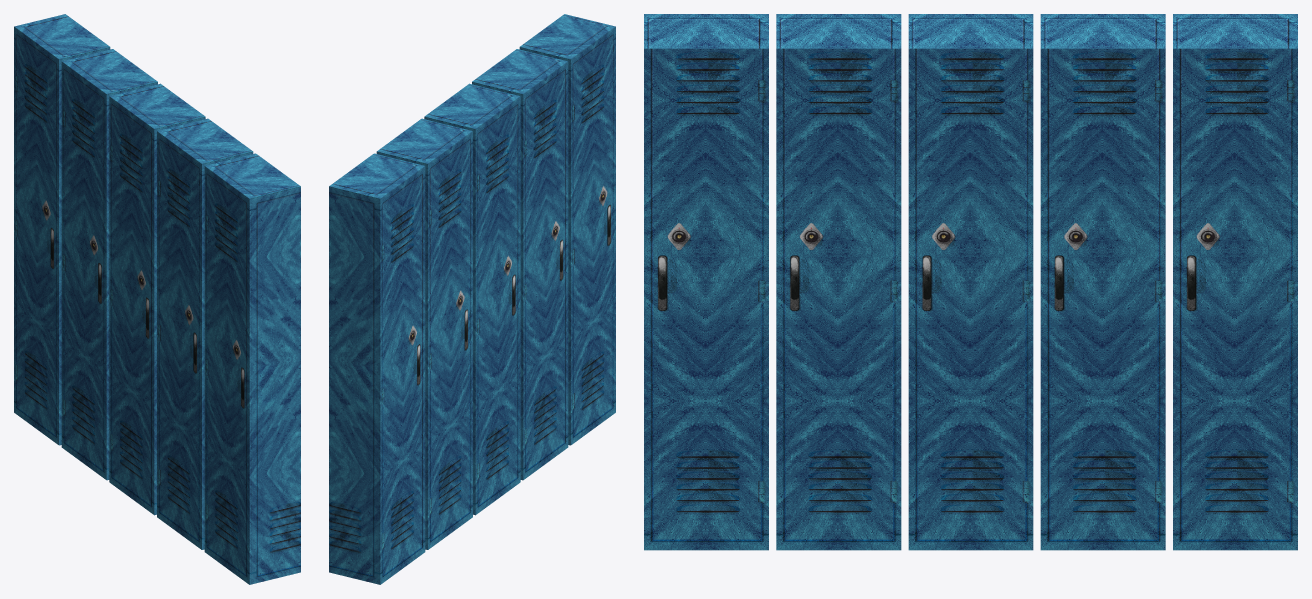
File: lockers.FBX
The picture shows the model from 3 angles, left to right: view 1: azimuth 30°, elevation 25°; view 2: azimuth 150°, elevation 25°; view 3: azimuth 270°, elevation 25°; orthographic projection. The views are drawn at different scales.
Parts seen in each view (by area): view 1: Locker003; view 2: Locker003; view 3: Locker003.
Part boxes in pixels (bbox=[...]): Locker003: bbox=[14, 14, 300, 584]; Locker003: bbox=[329, 14, 615, 584]; Locker003: bbox=[644, 14, 1297, 550].
Size of what is drawn, in the model's own units: 3115 by 22379 by 24733.
